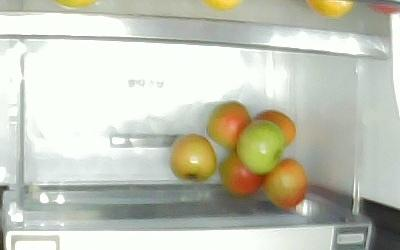tomato: (236, 119, 284, 174), (169, 134, 217, 182), (207, 101, 252, 151), (262, 159, 306, 209), (219, 153, 264, 197), (254, 109, 296, 148)
